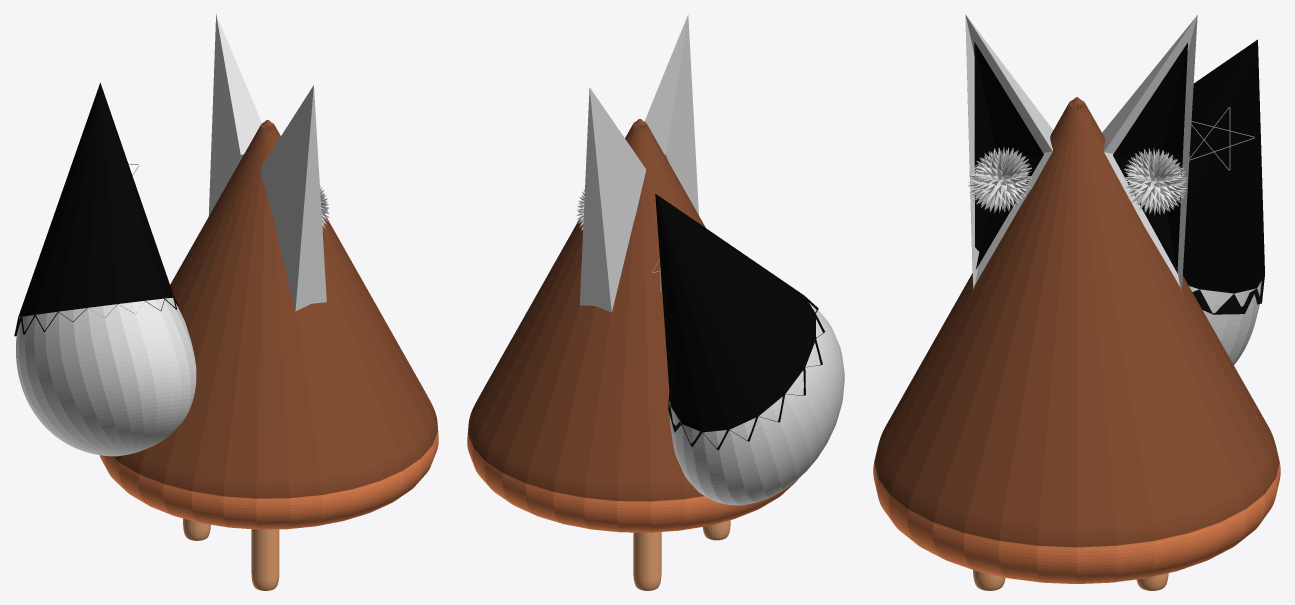
The model's file is おるやんけ.fbx.
3 renders of one model, left to right at view 1: azimuth 30°, elevation 25°; view 2: azimuth 150°, elevation 25°; view 3: azimuth 270°, elevation 25°, orthographic. The views are drawn at different scales.
Parts seen in each view (by area): view 1: おるやんけ; view 2: おるやんけ; view 3: おるやんけ.
Boxes of the visible parts, x1,y1,x2,y2 form: おるやんけ: (14,14,438,590); おるやんけ: (467,14,844,590); おるやんけ: (873,14,1280,590).
Bounding box in the file's own units: 207 × 278 × 173.
